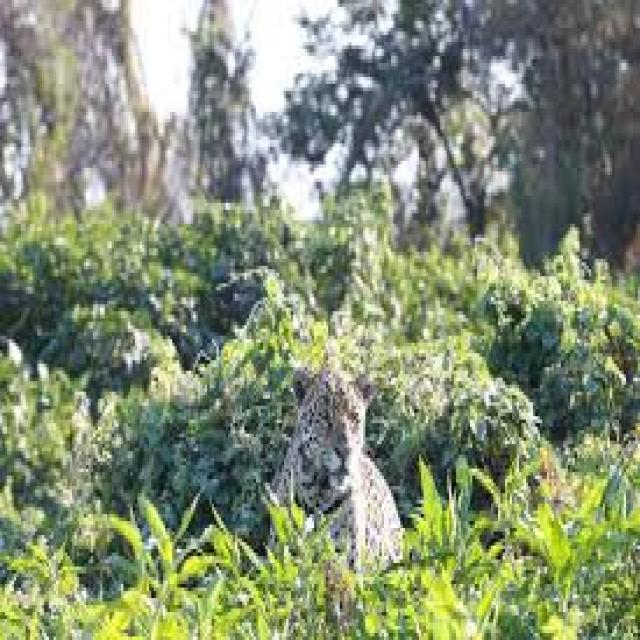Jaguar: (263, 346, 407, 570)
